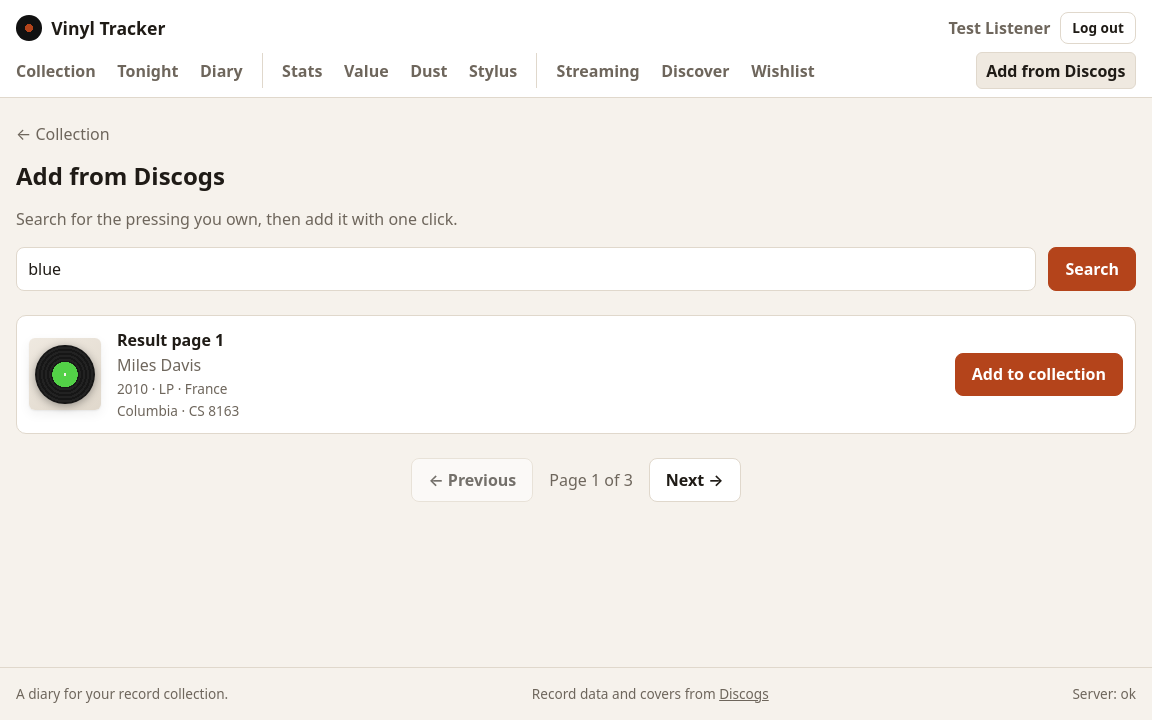
Test case: DiscogsPage › pages through the results
Expected: the text "Result page 1" is shown, [117,329,224,351]
Expected: the button "← Previous" is disabled, [411,458,533,502]
Step 1. Click the button "Next →" → [695, 480], box [649,458,741,502]
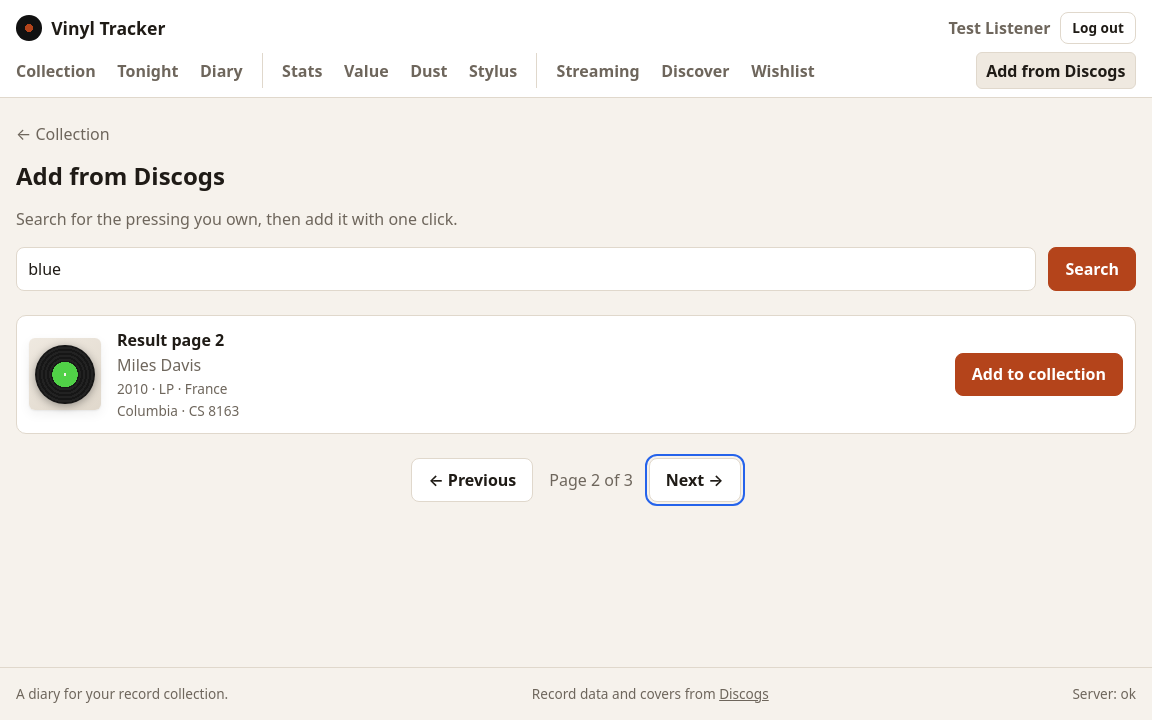
Expected: the text "Result page 2" is shown, [117,329,224,351]
Expected: the text "Page 2 of 3" is shown, [549,468,633,492]
